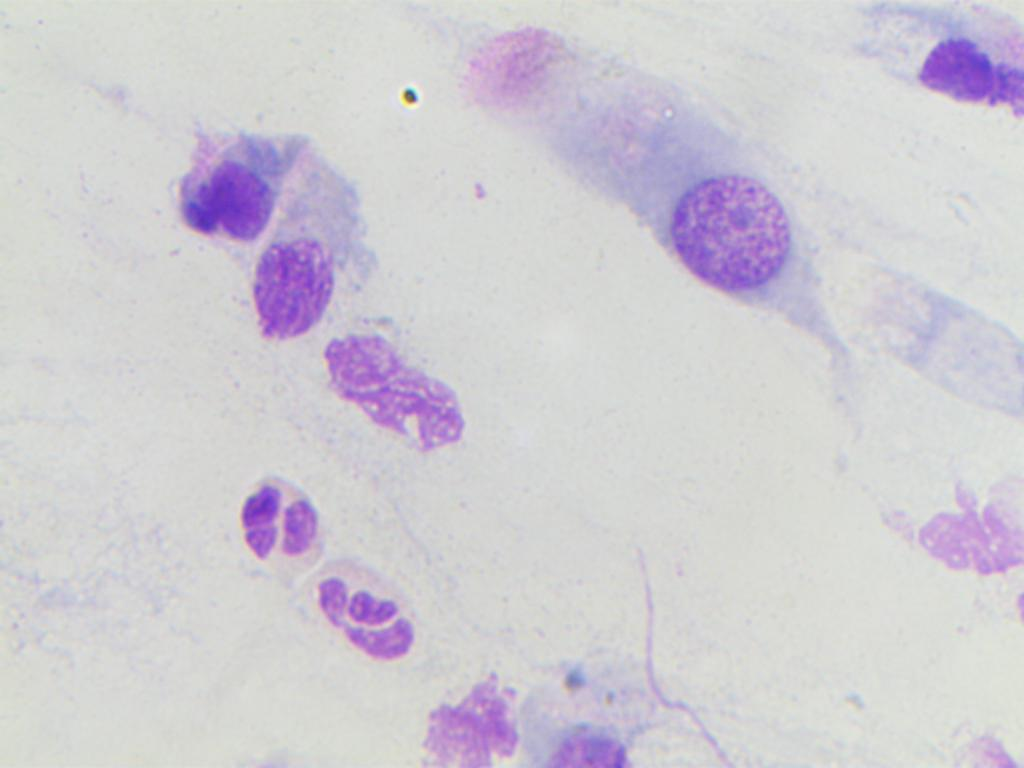artifact: (399, 87, 431, 116)
ciliated: (447, 23, 825, 294)
epithelial: (163, 120, 301, 240), (248, 232, 331, 345)
neutrophil: (299, 554, 430, 676), (222, 467, 319, 580)
